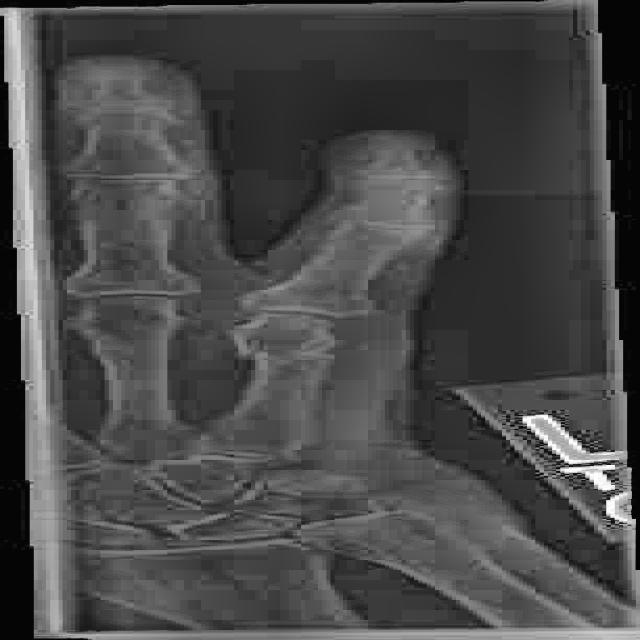fingers positive: (210, 331, 388, 385)
